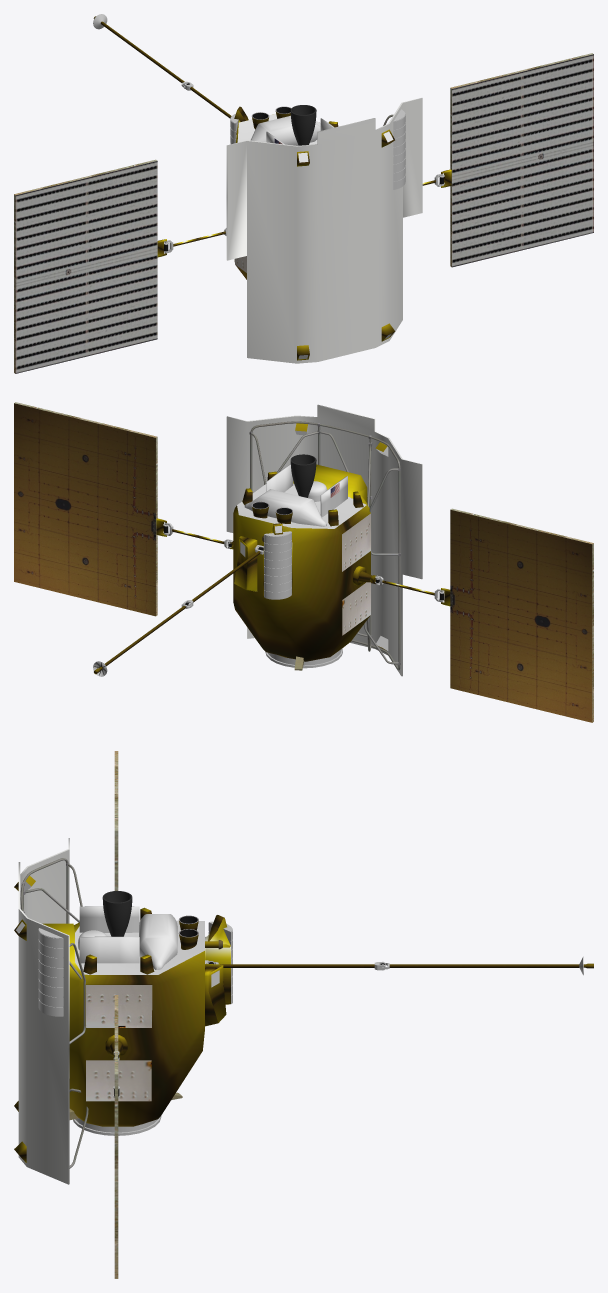
The model's file is messenger_lod0.glb.
3 renders of one model, top to bottom at view 1: azimuth 30°, elevation 25°; view 2: azimuth 150°, elevation 25°; view 3: azimuth 270°, elevation 25°, orthographic. The views are drawn at different scales.
Visible parts, largest first — view 1: messenger_lod0; view 2: messenger_lod0; view 3: messenger_lod0.
Part boxes in pixels (bbox=[...]): messenger_lod0: bbox=[14, 14, 593, 373]; messenger_lod0: bbox=[14, 402, 593, 722]; messenger_lod0: bbox=[14, 751, 593, 1278].
Size of the model in its own units: 6.59 by 2.5 by 5.
Materials: 10 (5 with a texture image).
